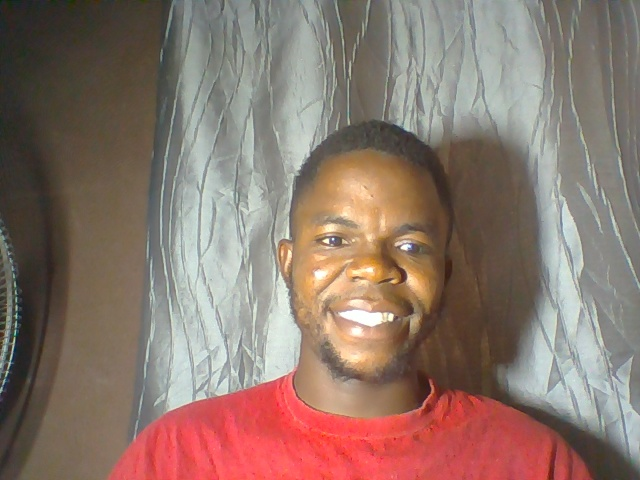MaskOff: (276, 117, 497, 399)
